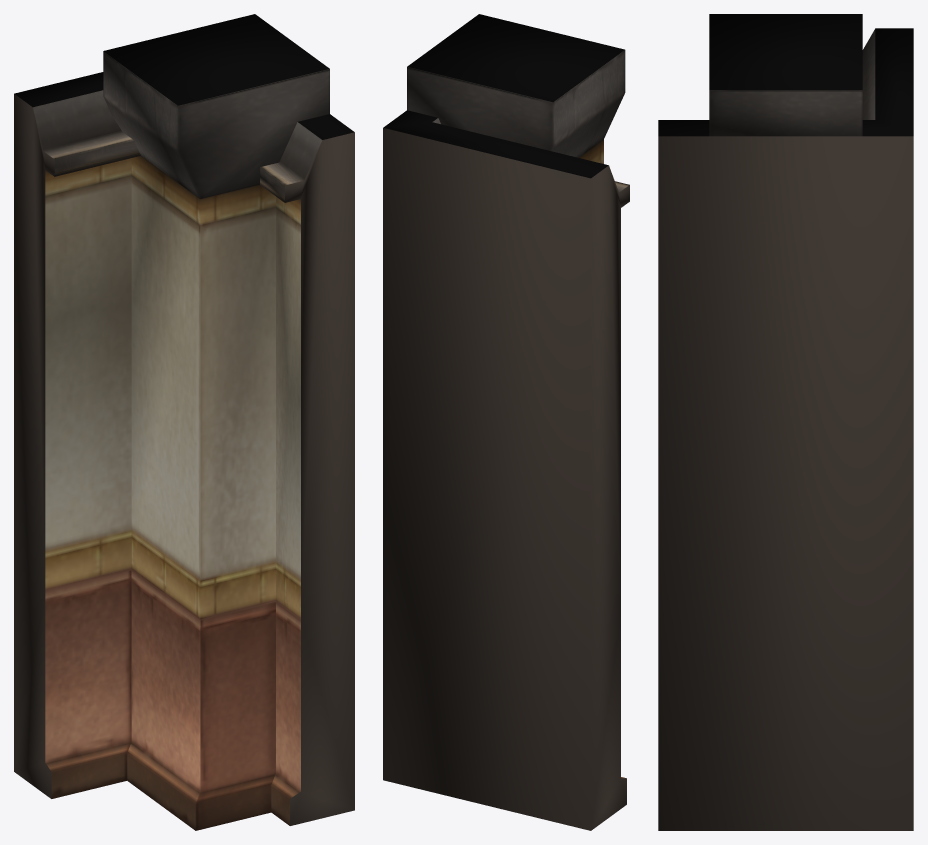
Rendered from a_SWIwall02_02.glb.
The picture shows the model from 3 angles, left to right: view 1: azimuth 30°, elevation 25°; view 2: azimuth 150°, elevation 25°; view 3: azimuth 270°, elevation 25°; orthographic projection. The views are drawn at different scales.
Parts seen in each view (by area): view 1: a_SWIwall02_02; view 2: a_SWIwall02_02; view 3: a_SWIwall02_02.
Boxes of the visible parts, x1,y1,x2,y2 form: a_SWIwall02_02: [14, 14, 354, 830]; a_SWIwall02_02: [383, 14, 629, 830]; a_SWIwall02_02: [658, 14, 913, 830].
Bounding box in the file's own units: 1 × 3.2 × 1.
2 materials, 2 textured.
